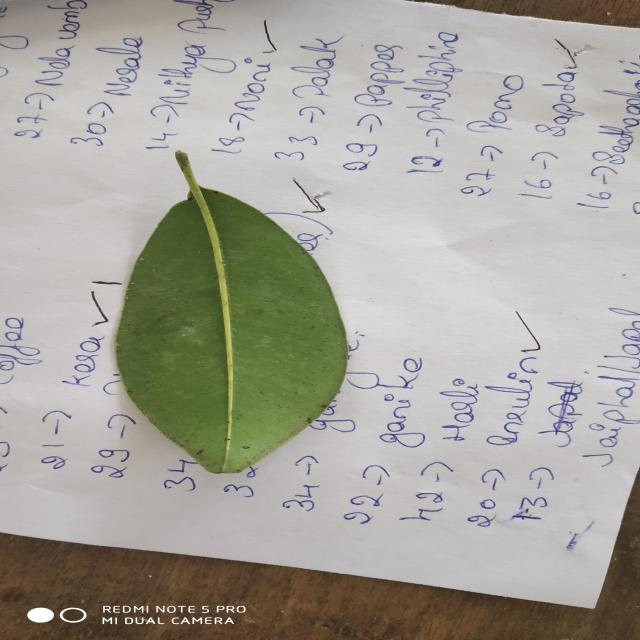sapota: (116, 151, 349, 472)
